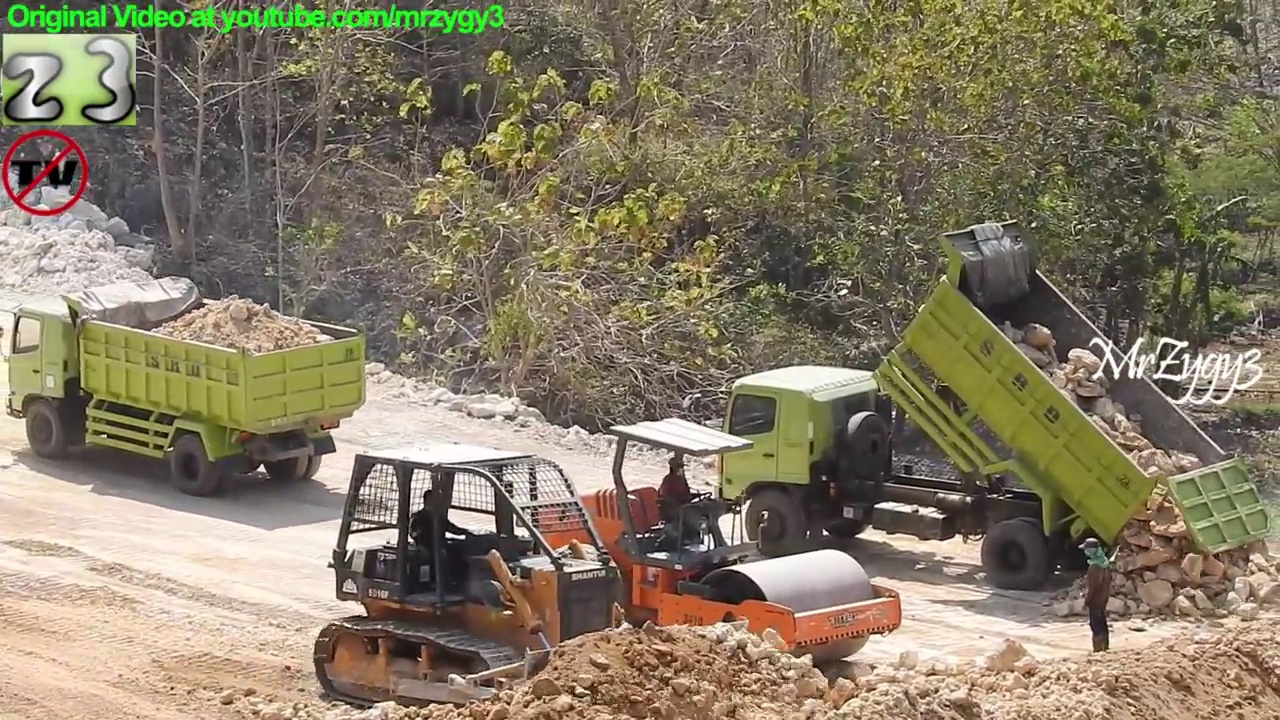bulldozer: (310, 434, 769, 720)
compactor: (512, 413, 907, 682)
truck: (706, 216, 1278, 596), (1, 267, 369, 502)
